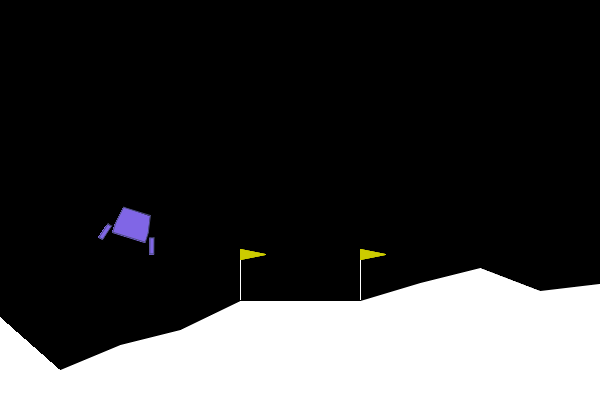lander: (97, 201, 166, 257)
